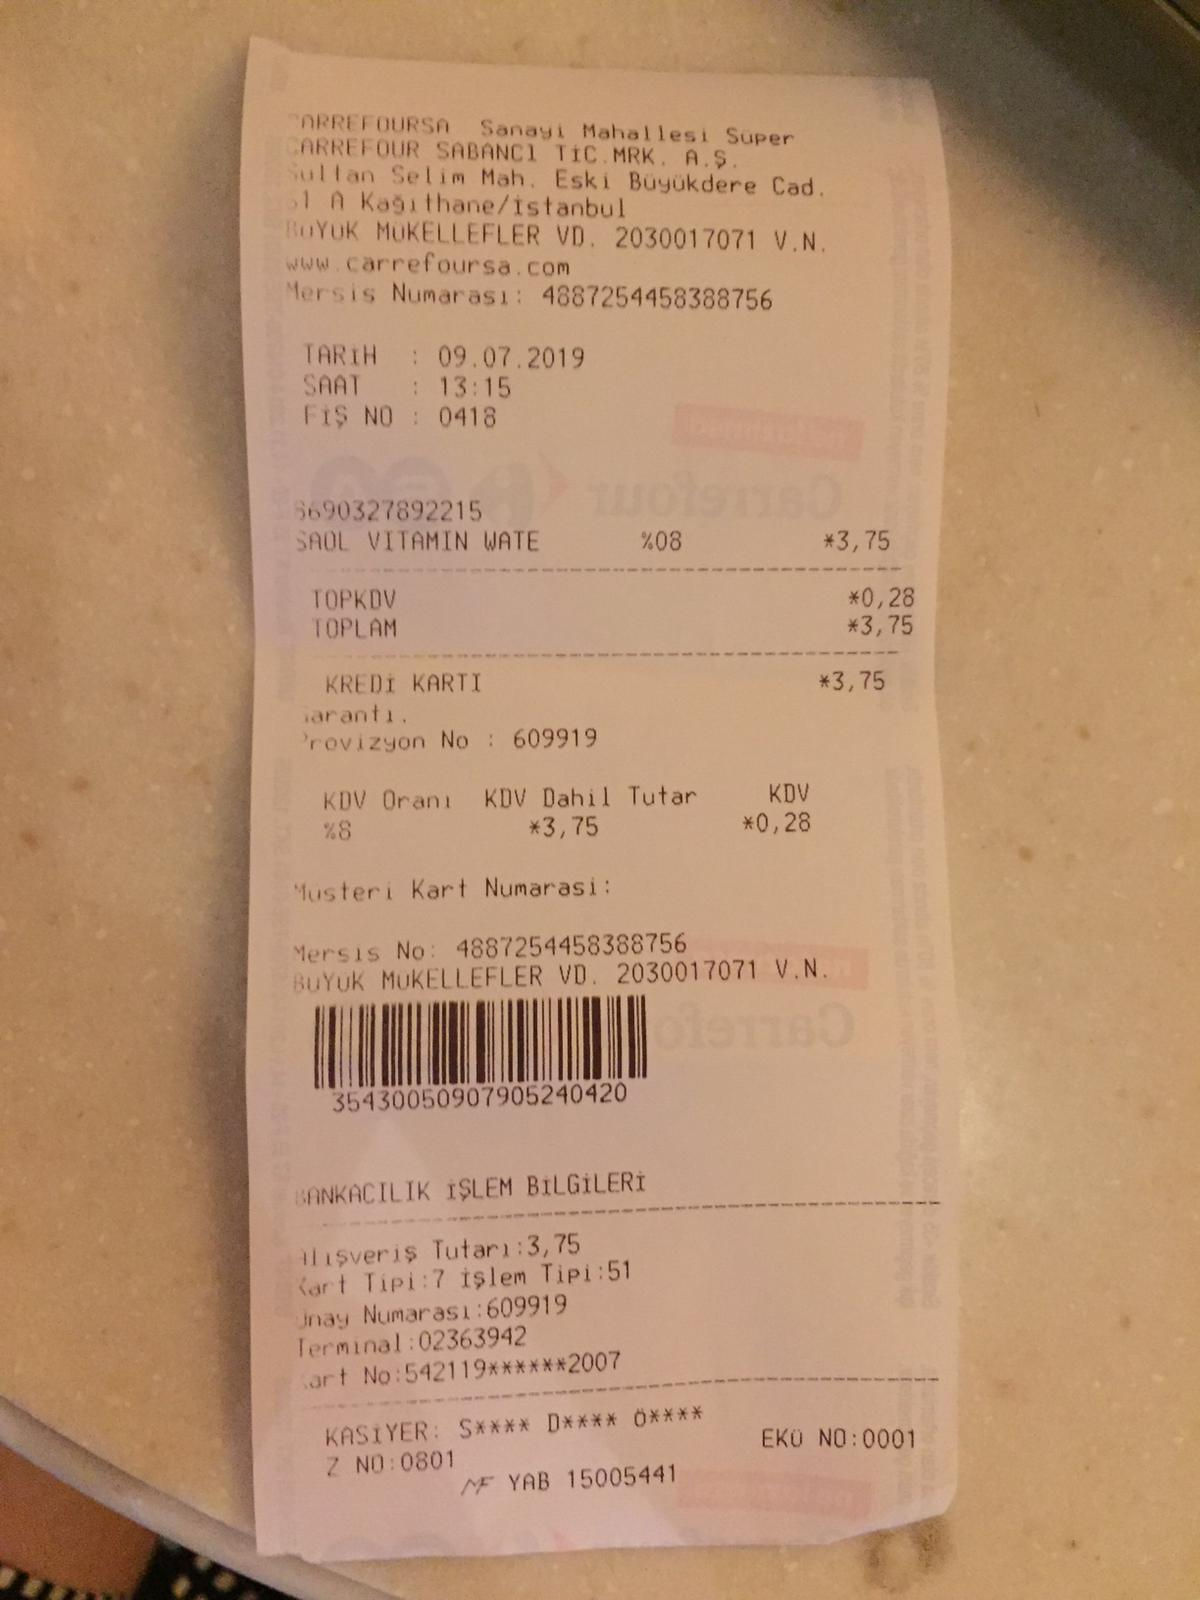total: (309, 608, 921, 650)
